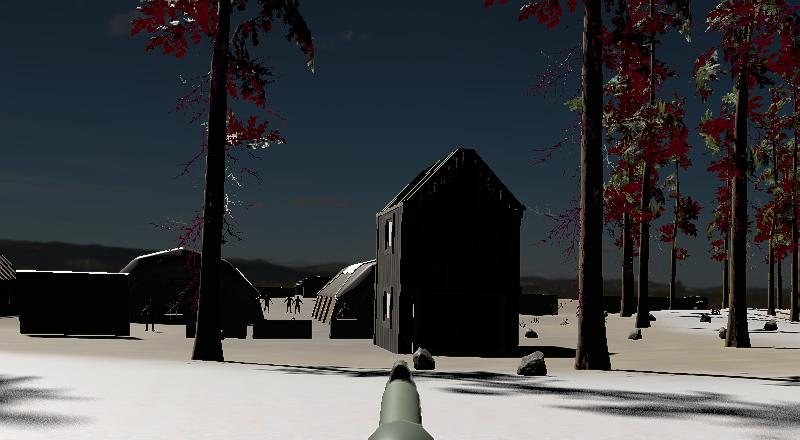House: (377, 146, 526, 357), (376, 147, 525, 355), (0, 247, 18, 317)
Human: (293, 294, 304, 315)
